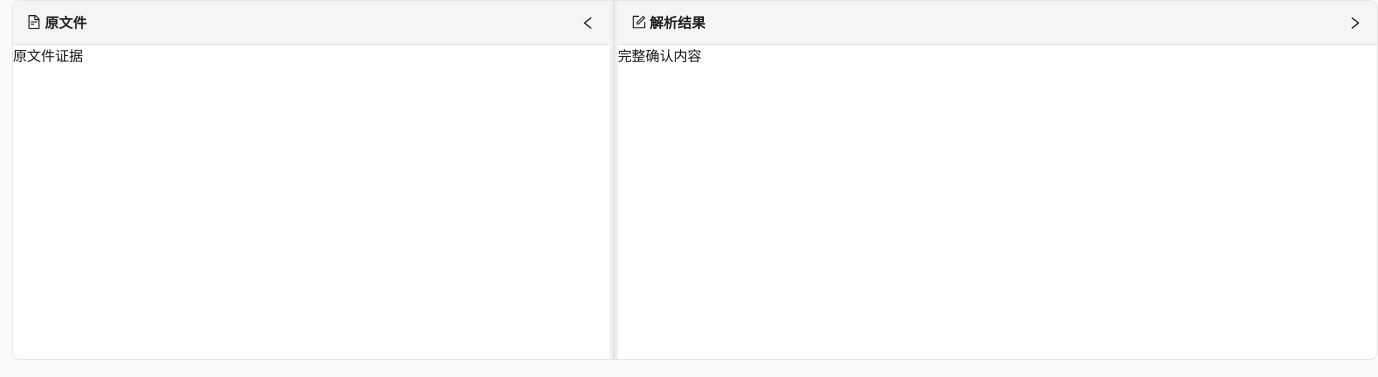
Test: DocumentComparisonViewer › can focus one pane and restore the split without unmounting the other pane
The image size is (1378, 377).
Click the button named "仅看解析结果": (1355, 22) [1343,10,1367,34]
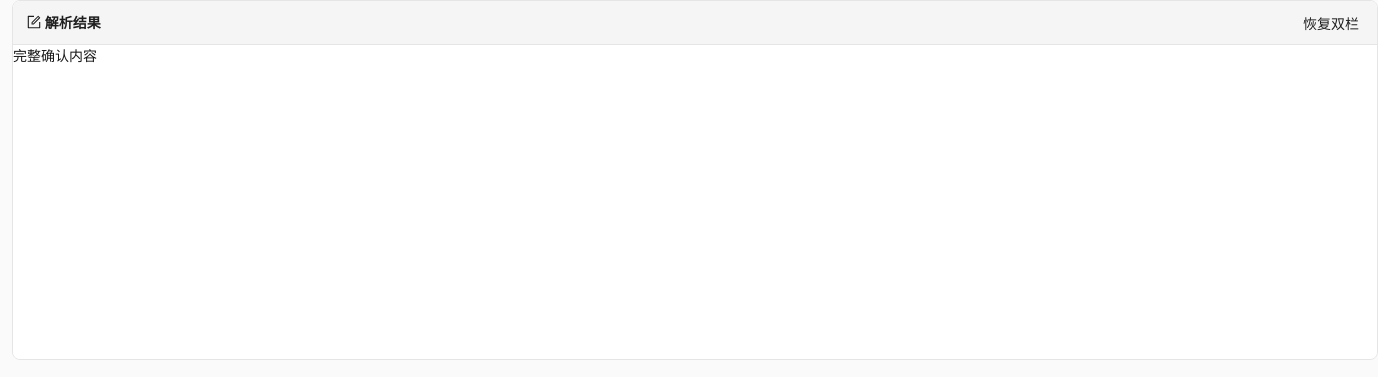
expect the text "完整确认内容" is shown: met, box [13,46,97,65]
Click the button "恢复双栏": (1331, 22) [1295,10,1367,34]
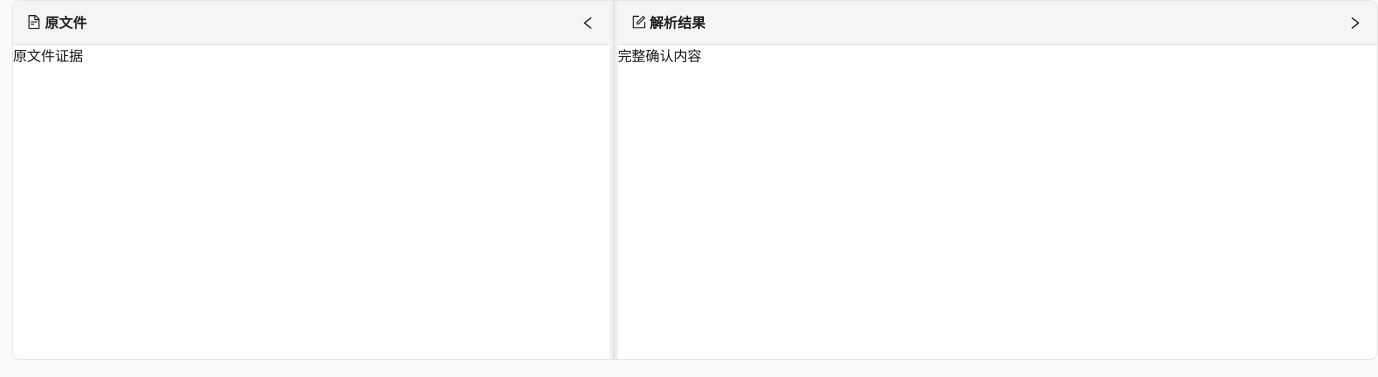
expect the element named "调整原文件与解析结果的宽度" is shown: met, box [610,1,618,359]
